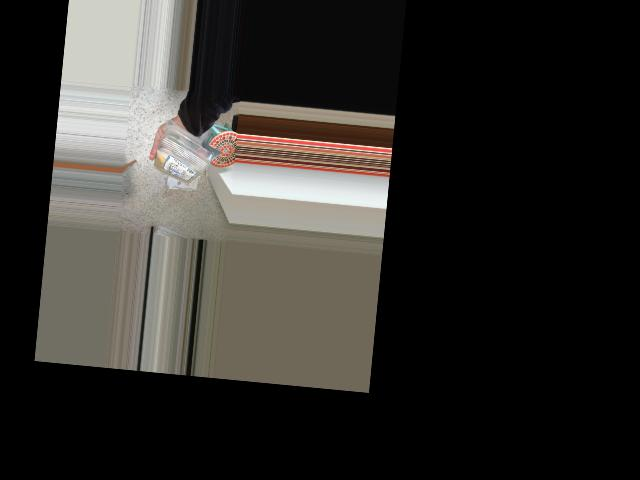cheese: (153, 118, 226, 198)
